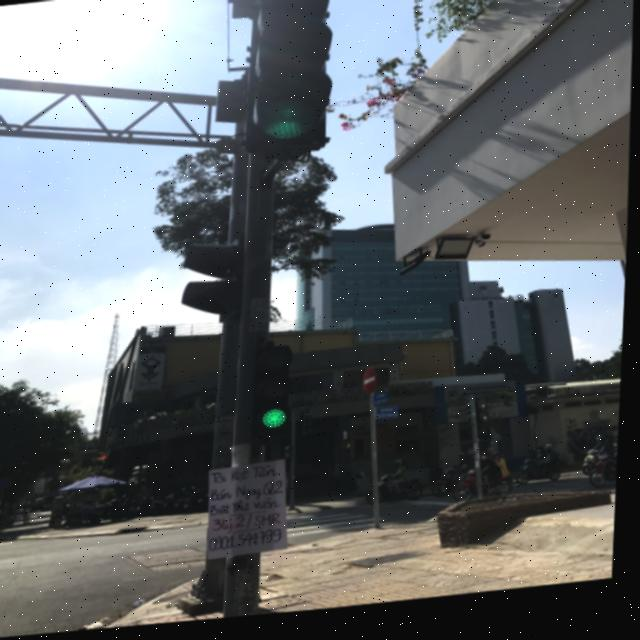Green: (238, 0, 343, 164), (250, 340, 311, 442)
